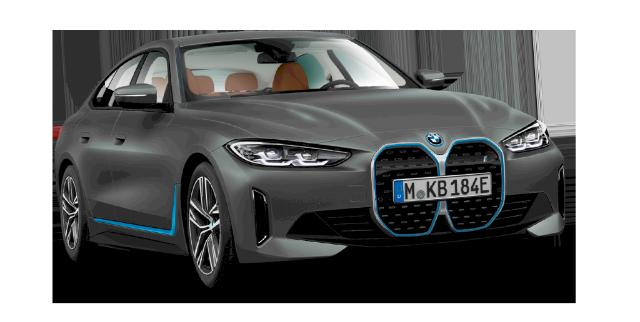bmw: (54, 30, 566, 290)
